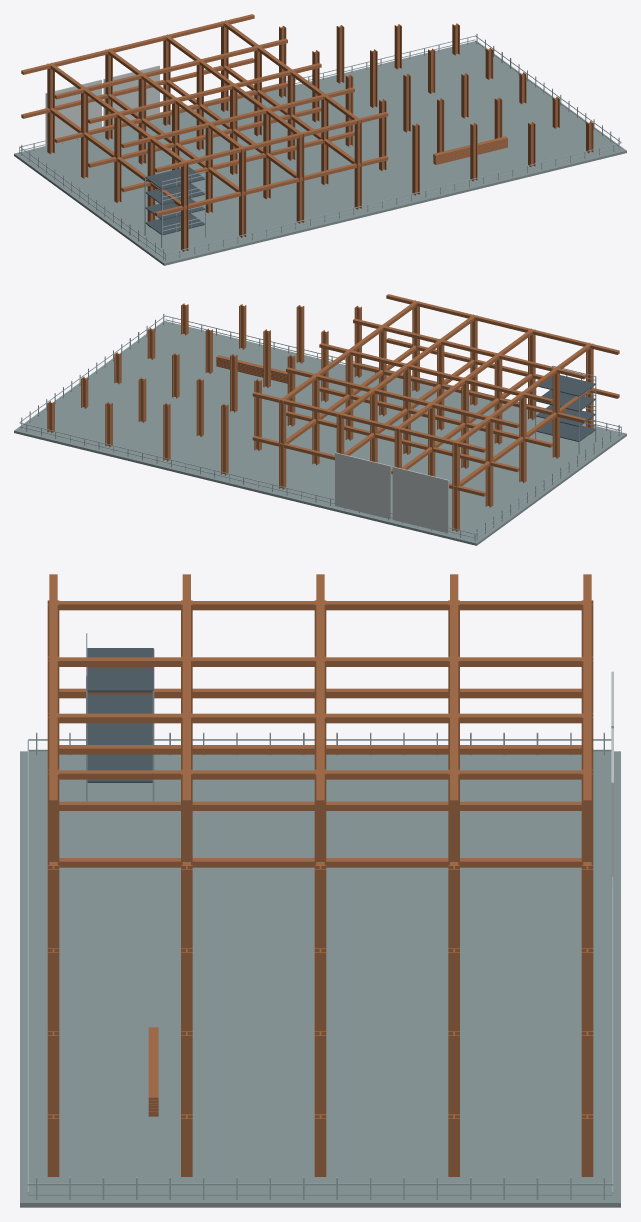
File: steel-frame.glb
3 views of the same model, one above another, from view 1: azimuth 30°, elevation 25°; view 2: azimuth 150°, elevation 25°; view 3: azimuth 270°, elevation 25° (orthographic). The views are drawn at different scales.
Parts seen in each view (by area): view 1: Structure, Site; view 2: Structure, Site; view 3: Structure, Site.
Boxes of the visible parts, <box> form: Structure: <box>14,14,626,265</box>; Site: <box>19,33,621,261</box>; Structure: <box>14,294,626,545</box>; Site: <box>19,313,621,541</box>; Structure: <box>20,574,620,1207</box>; Site: <box>27,633,613,1199</box>.
Bounding box in the file's own units: 64 × 12 × 36.
